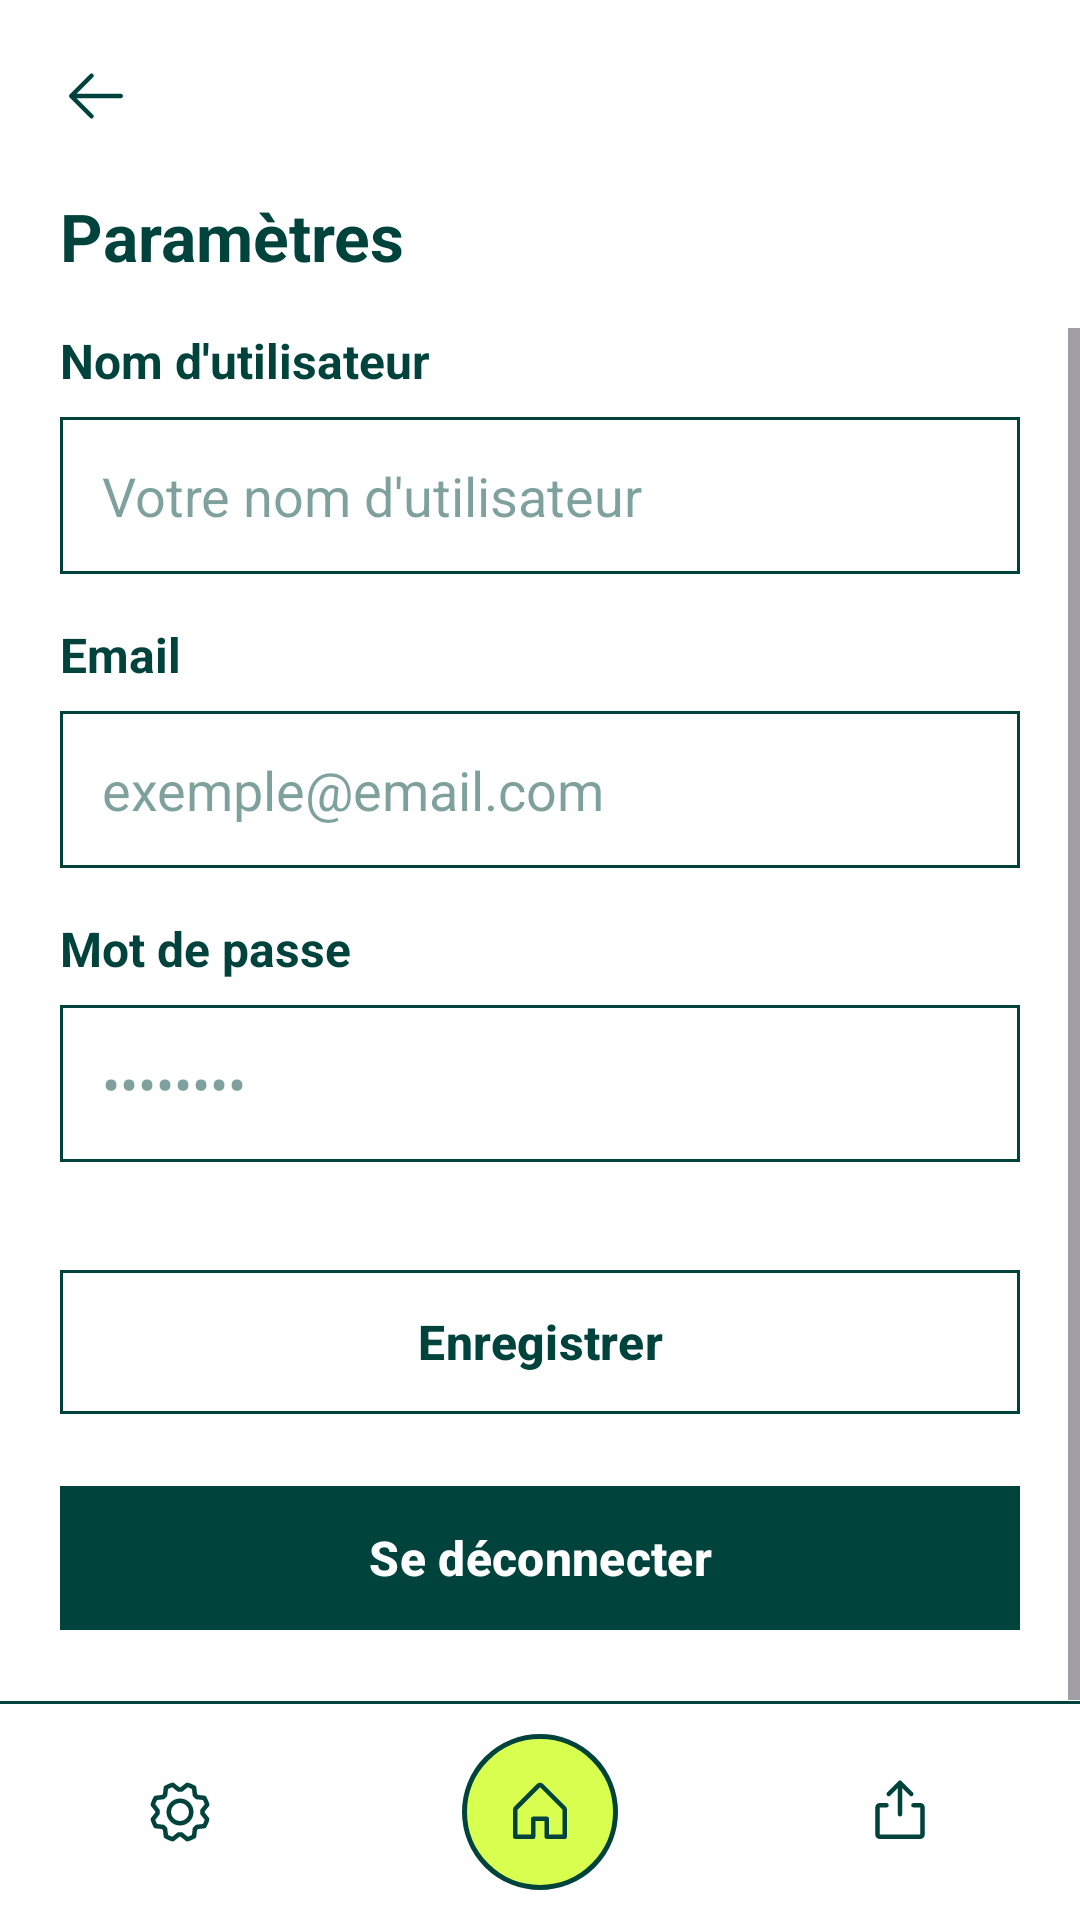

Icon bounding boxes for this 1080*1920 phone screenshot, format (x1, y1, x2, y2):
Accueil: (462, 1734, 618, 1890)
Paramètres: (150, 1782, 210, 1842)
Partager: (875, 1780, 925, 1839)
Retour: (69, 73, 123, 119)
